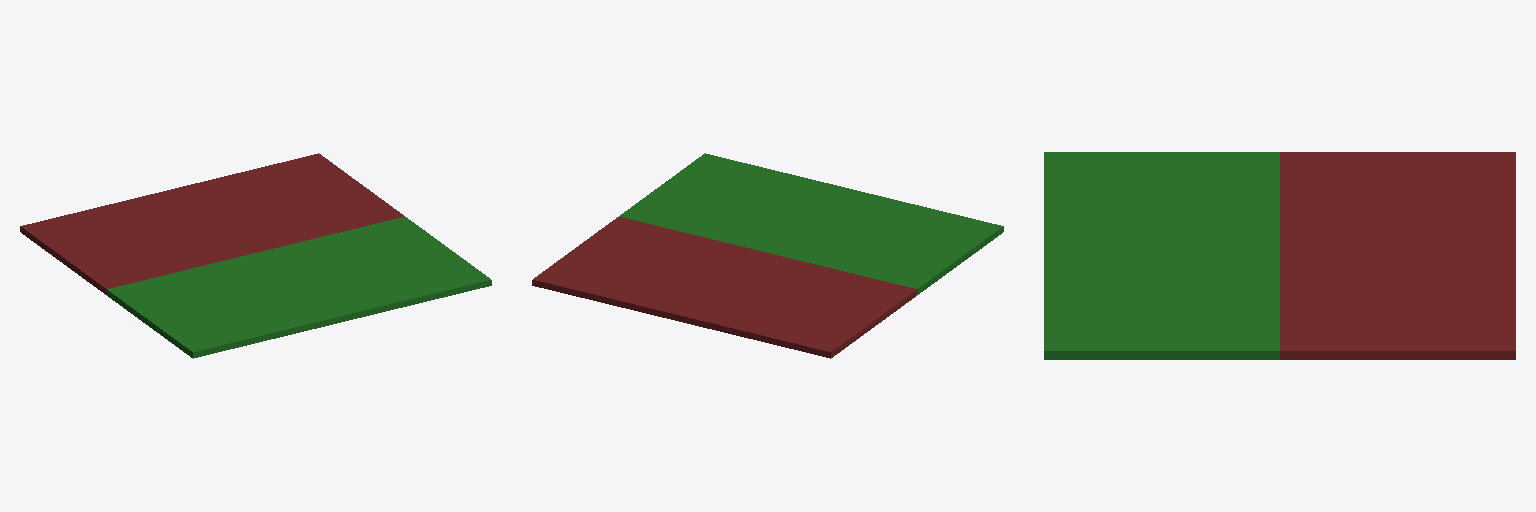
robot.urdf — robot:
<?xml version="1.0" encoding="utf-8"?>
<!-- =================================================================================== -->
<!-- |    This document was autogenerated by xacro from plate_color.urdf.xacro         | -->
<!-- |    EDITING THIS FILE BY HAND IS NOT RECOMMENDED                                 | -->
<!-- =================================================================================== -->
<robot>
  <material name="front_material">
    <color rgba="0.5 0.2 0.2 1.0"/>
  </material>
  <material name="rear_material">
    <color rgba="0.2 0.5 0.2 1.0"/>
  </material>
  <link name="base"/>
  <link name="front">
    <visual>
      <origin xyz="0 0.075 0.003"/>
      <geometry>
        <box size="0.3 0.15 0.006"/>
      </geometry>
      <material name="front_material"/>
    </visual>
    <collision>
      <origin xyz="0 0.075 0.003"/>
      <geometry>
        <box size="0.3 0.15 0.006"/>
      </geometry>
    </collision>
    <inertial>
      <mass value="0.5"/>
    </inertial>
  </link>
  <link name="rear">
    <visual>
      <origin xyz="0 -0.075 0.003"/>
      <geometry>
        <box size="0.3 0.15 0.006"/>
      </geometry>
      <material name="rear_material"/>
    </visual>
    <collision>
      <origin xyz="0 -0.075 0.003"/>
      <geometry>
        <box size="0.3 0.15 0.006"/>
      </geometry>
    </collision>
    <inertial>
      <mass value="0.5"/>
    </inertial>
  </link>
  <joint name="front_joint" type="fixed">
    <parent link="base"/>
    <child link="front"/>
  </joint>
  <joint name="rear_joint" type="fixed">
    <parent link="base"/>
    <child link="rear"/>
  </joint>
</robot>

--- Render facts (derived) ---
The picture shows the robot from 3 angles, left to right: view 1: azimuth 30°, elevation 25°; view 2: azimuth 150°, elevation 25°; view 3: azimuth 270°, elevation 25°; orthographic projection.
Robot: robot — 3 links, 2 joints (2 fixed); root link base; default pose: every joint at zero.
Links seen in each view (by area): view 1: rear, front; view 2: front, rear; view 3: front, rear.
Boxes of the visible links, x1,y1,x2,y2 form: rear: [107, 217, 491, 358]; front: [20, 153, 404, 294]; front: [532, 217, 916, 358]; rear: [619, 153, 1003, 294]; front: [1280, 152, 1515, 359]; rear: [1044, 152, 1279, 359].
Bounding box of the posed robot: 0.3 × 0.3 × 0.006 m (x, y, z).
Geometry: primitives only (box / cylinder / sphere), no mesh files.